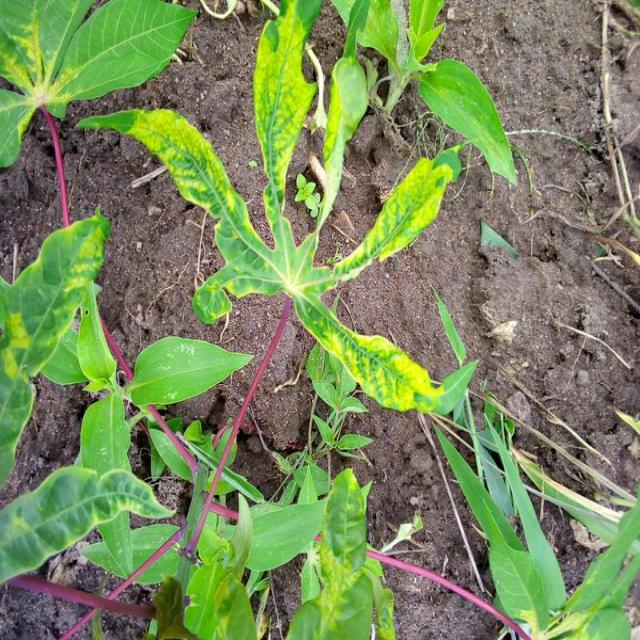cassava leaf: (416, 56, 518, 186), (126, 334, 255, 407)
